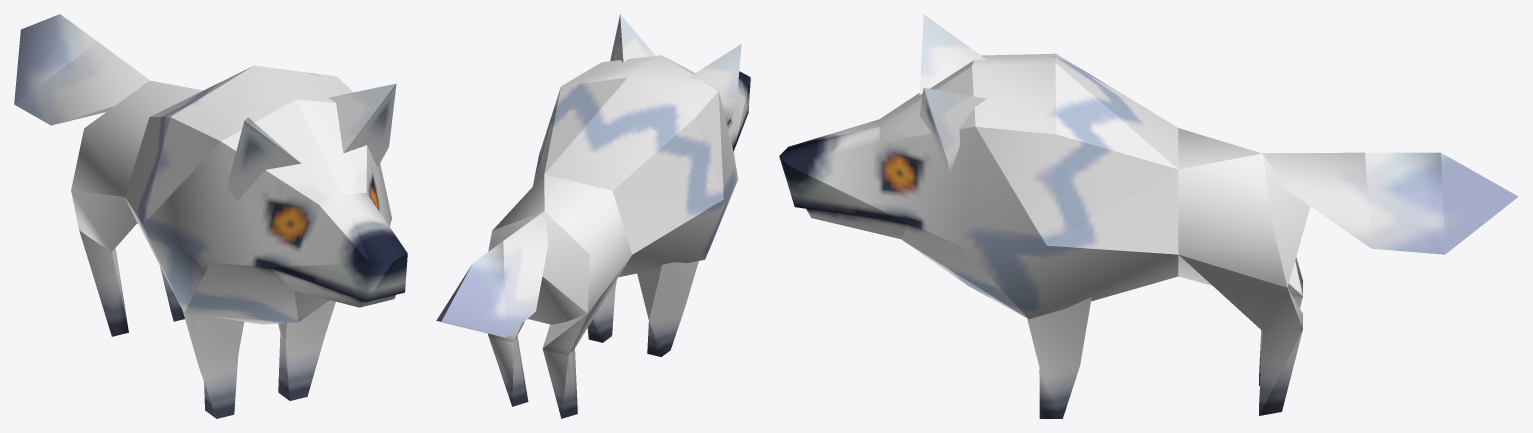
File: White wolfos.obj
3 renders of one model, left to right at view 1: azimuth 30°, elevation 25°; view 2: azimuth 150°, elevation 25°; view 3: azimuth 270°, elevation 25°, orthographic. The views are drawn at different scales.
Parts seen in each view (by area): view 1: WWFS; view 2: WWFS; view 3: WWFS.
Part boxes in pixels (x1,y1,x2,y2): WWFS: (14,14,407,418); WWFS: (436,14,750,418); WWFS: (779,14,1518,418).
Size of the model in its own units: 0.7197 by 1.04 by 2.01.
Materials: 1 (1 with a texture image).
